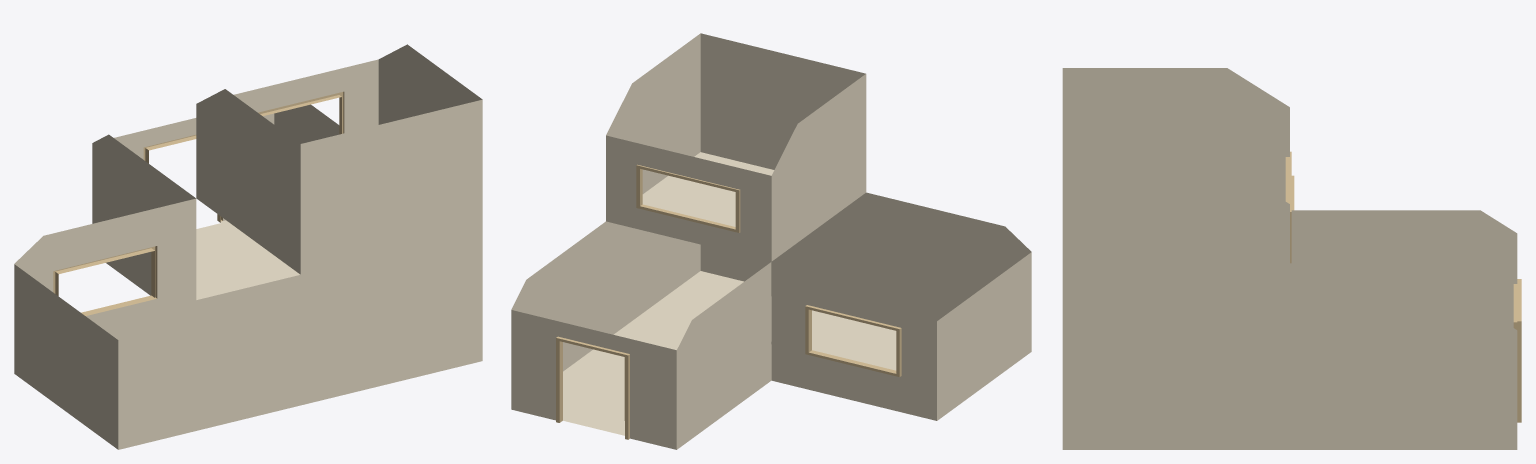
File: Bld_R_med_L2_C.fbx
3 renders of one model, left to right at view 1: azimuth 30°, elevation 25°; view 2: azimuth 150°, elevation 25°; view 3: azimuth 270°, elevation 25°, orthographic. The views are drawn at different scales.
Parts seen in each view (by area): view 1: Bld_R_med_L2_C_LOD0; view 2: Bld_R_med_L2_C_LOD0; view 3: Bld_R_med_L2_C_LOD0.
Boxes of the visible parts, x1,y1,x2,y2 form: Bld_R_med_L2_C_LOD0: [14, 44, 482, 449]; Bld_R_med_L2_C_LOD0: [511, 33, 1031, 449]; Bld_R_med_L2_C_LOD0: [1062, 68, 1521, 449].
Size of what is drawn, in the model's own units: 1407 by 1270 by 1407.
Materials: 1 (1 with a texture image).
